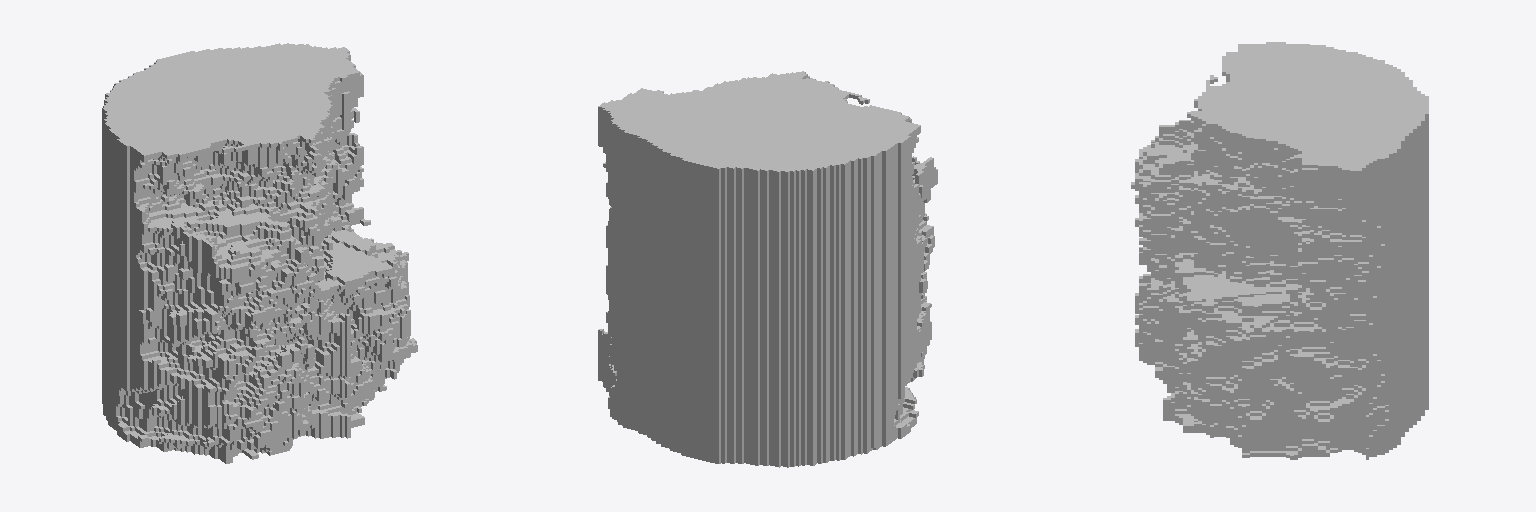
File: Cliff_1-7.obj
3 views of the same model, side by side, from view 1: azimuth 30°, elevation 25°; view 2: azimuth 150°, elevation 25°; view 3: azimuth 270°, elevation 25° (orthographic).
Visible parts, largest first — view 1: object 1; view 2: object 1; view 3: object 1.
Part boxes in pixels (x1,y1,x2,y2): object 1: (102,43,417,463); object 1: (598,71,937,467); object 1: (1131,42,1428,459).
Bounding box in the file's own units: 7.9 × 8.2 × 7.5.